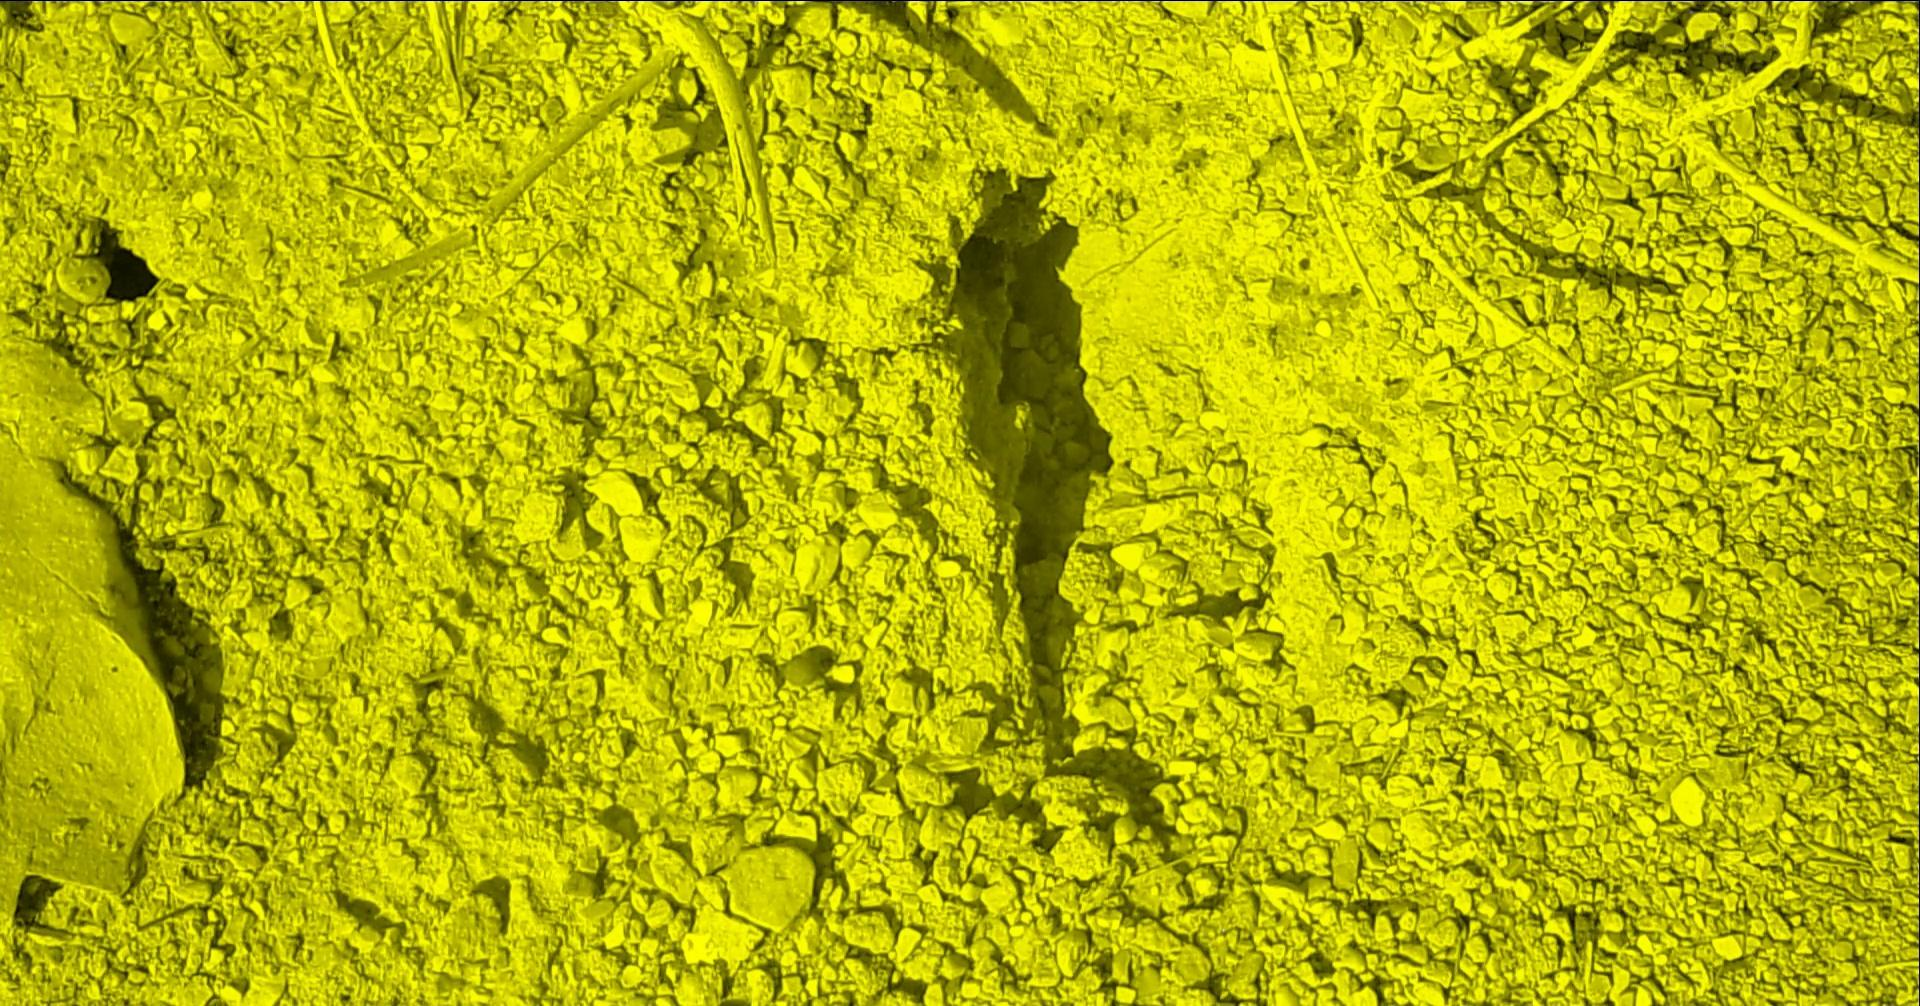ant: (830, 0, 904, 3)
